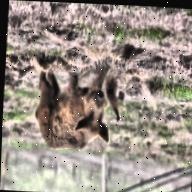boar: (32, 61, 113, 153)
